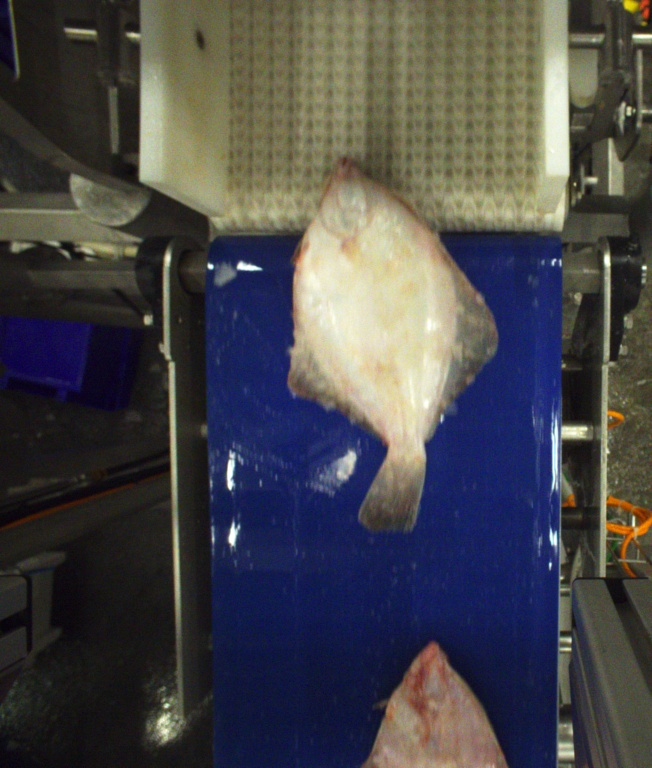PLE: (287, 157, 501, 530)
